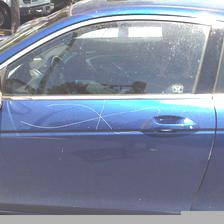door_scratch: (22, 102, 190, 144)
